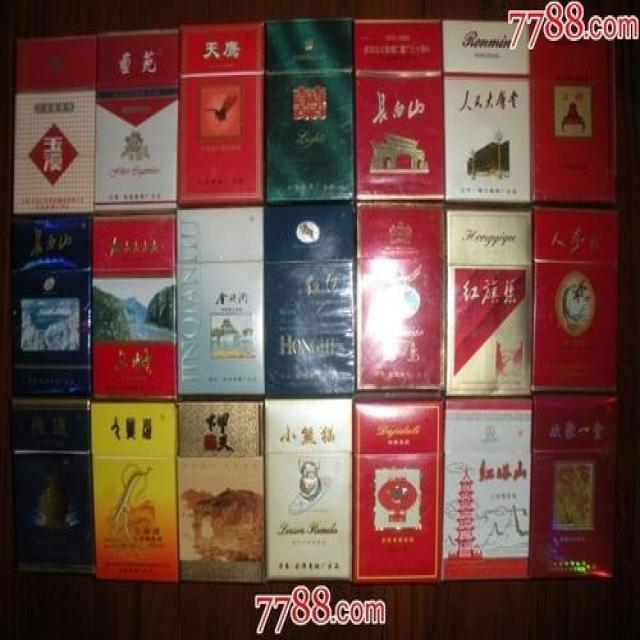box: (266, 207, 355, 398), (353, 19, 445, 200), (265, 19, 357, 200), (177, 208, 265, 396), (357, 203, 445, 391), (355, 399, 443, 584), (442, 20, 530, 205), (91, 213, 178, 399), (442, 399, 531, 580), (447, 208, 531, 398), (91, 403, 180, 582), (265, 398, 353, 579), (532, 207, 617, 394), (93, 29, 179, 213), (529, 22, 616, 203), (179, 22, 264, 207), (178, 403, 266, 580), (530, 398, 614, 579), (13, 34, 96, 215), (12, 399, 95, 573), (12, 217, 92, 396)
